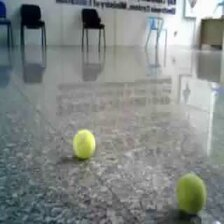tennis: (175, 172, 206, 212), (72, 129, 96, 158)
